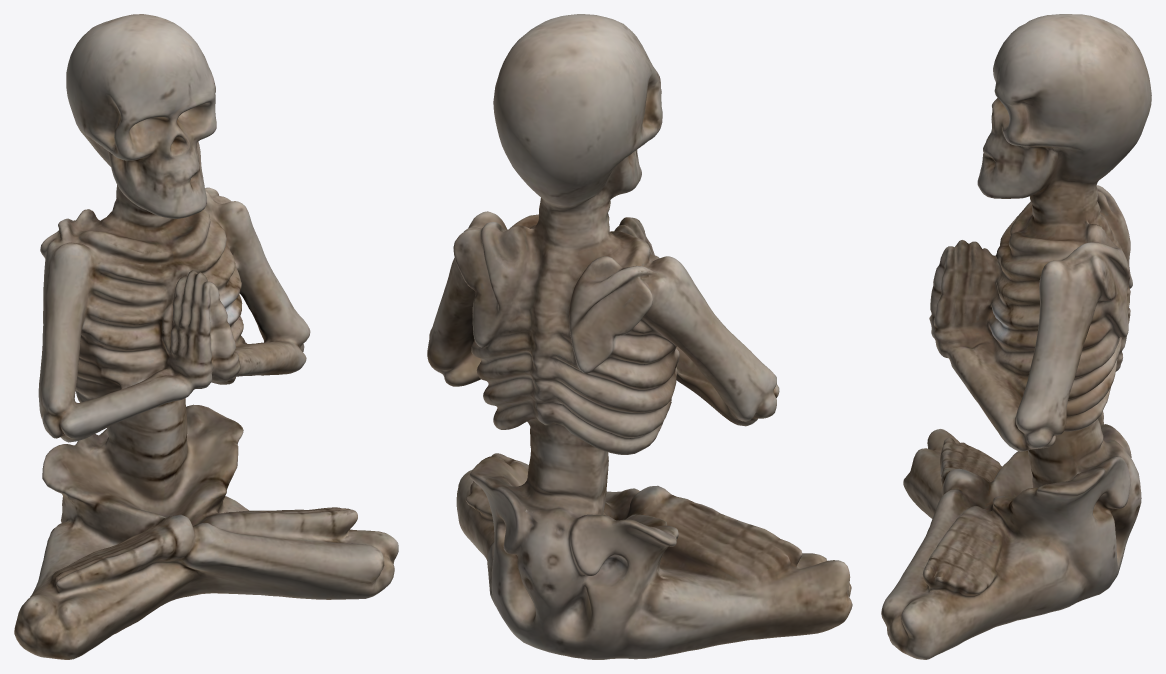
The model's file is SittingSkeleton.fbx.
3 renders of one model, left to right at view 1: azimuth 30°, elevation 25°; view 2: azimuth 150°, elevation 25°; view 3: azimuth 270°, elevation 25°, orthographic. The views are drawn at different scales.
Parts seen in each view (by area): view 1: Yoga Skeleton; view 2: Yoga Skeleton; view 3: Yoga Skeleton.
Part boxes in pixels (x1,y1,x2,y2): Yoga Skeleton: (14,14,398,659); Yoga Skeleton: (427,14,852,659); Yoga Skeleton: (881,14,1151,659).
Size of the model in its own units: 105 by 151 by 66.8.
